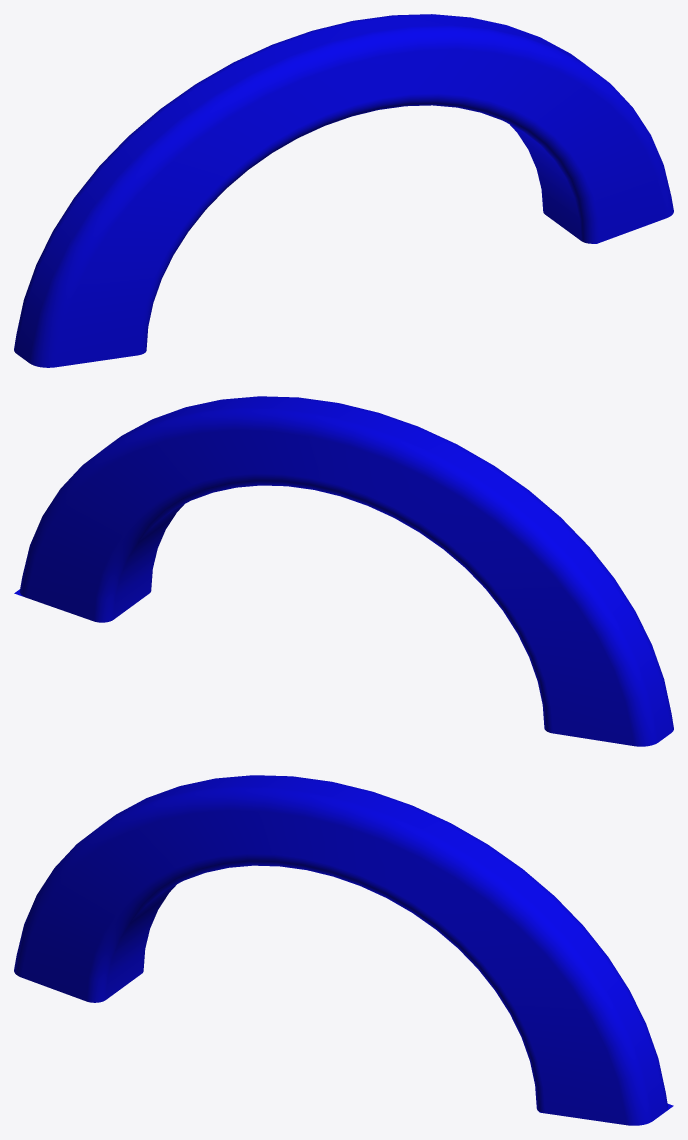
File: Bridge_1.fbx
3 renders of one model, top to bottom at view 1: azimuth 30°, elevation 25°; view 2: azimuth 150°, elevation 25°; view 3: azimuth 330°, elevation 25°, orthographic.
Visible parts, largest first — view 1: polySurface2; view 2: polySurface2; view 3: polySurface2.
Boxes of the visible parts, bbox=[...] form: polySurface2: bbox=[14, 14, 673, 367]; polySurface2: bbox=[14, 396, 673, 746]; polySurface2: bbox=[14, 775, 673, 1125].
Bounding box in the file's own units: 37.76 × 13.96 × 5.07.
